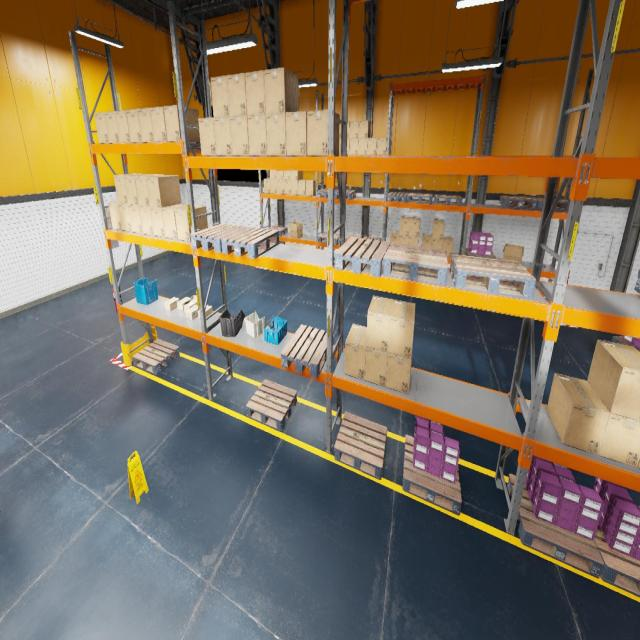box: (547, 372, 609, 454), (587, 381, 640, 467), (587, 340, 640, 420), (264, 67, 299, 114), (388, 299, 415, 359), (366, 296, 393, 352), (307, 110, 339, 156), (163, 105, 200, 142), (344, 323, 366, 380), (174, 205, 208, 241), (386, 347, 412, 394), (146, 175, 181, 207), (134, 174, 164, 206), (286, 111, 307, 156), (124, 174, 154, 205), (365, 347, 388, 387), (162, 204, 188, 239), (245, 70, 265, 115), (114, 174, 143, 204), (266, 113, 286, 156), (227, 73, 247, 116), (248, 114, 268, 156), (210, 76, 230, 118), (230, 116, 249, 155), (214, 117, 232, 155), (198, 118, 216, 156), (150, 106, 167, 142), (138, 107, 154, 142), (126, 109, 142, 143), (114, 110, 130, 142), (104, 111, 120, 143), (94, 112, 109, 143), (150, 207, 165, 237), (502, 244, 524, 264), (139, 206, 154, 235), (128, 204, 143, 233), (108, 201, 122, 230), (118, 204, 132, 232), (442, 237, 454, 257), (432, 219, 444, 239), (184, 294, 197, 312), (289, 222, 303, 238), (409, 217, 420, 237), (400, 216, 410, 236), (359, 120, 370, 138), (186, 305, 199, 320), (164, 297, 179, 310), (198, 305, 212, 318), (177, 297, 191, 310), (298, 180, 309, 195), (306, 180, 316, 196), (376, 138, 386, 154), (367, 138, 377, 154), (421, 234, 432, 248), (349, 138, 358, 155), (358, 138, 367, 155), (349, 121, 358, 138), (341, 121, 350, 138), (432, 235, 442, 249), (341, 138, 349, 154), (408, 236, 419, 246), (390, 231, 399, 243), (276, 180, 284, 193), (291, 171, 302, 180), (291, 180, 298, 194), (264, 178, 270, 194), (270, 180, 277, 193), (399, 235, 409, 244), (284, 180, 290, 194), (276, 170, 284, 180), (284, 170, 290, 180), (270, 170, 276, 179), (339, 138, 341, 154), (339, 123, 341, 138), (637, 459, 640, 468)
pallets: (507, 474, 604, 578), (402, 434, 462, 515), (450, 254, 536, 300), (334, 412, 387, 479), (594, 524, 640, 597), (383, 243, 448, 286), (281, 325, 333, 378), (246, 379, 297, 432), (335, 237, 390, 277), (221, 227, 279, 258), (132, 339, 180, 374), (190, 224, 248, 252), (531, 198, 570, 210), (499, 196, 538, 208), (612, 336, 640, 352), (434, 194, 462, 206), (407, 192, 433, 204), (465, 248, 496, 258), (361, 236, 381, 250), (387, 191, 409, 202), (319, 232, 339, 244), (339, 234, 362, 244), (266, 226, 288, 236), (317, 188, 338, 198), (334, 190, 356, 199), (634, 269, 640, 293), (491, 311, 517, 315), (519, 316, 545, 320), (462, 306, 486, 310), (431, 300, 454, 304), (384, 290, 403, 294)
